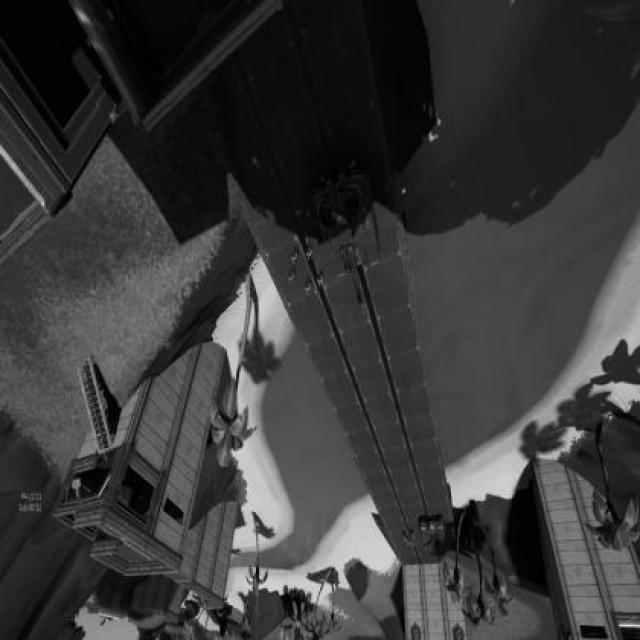tank: (311, 156, 381, 316), (419, 516, 448, 558)
